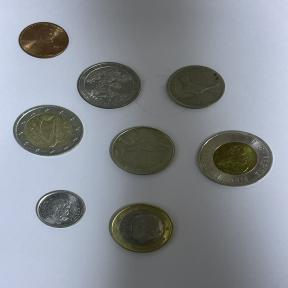coin: (189, 123, 280, 194), (99, 195, 183, 257), (100, 118, 182, 180), (6, 104, 86, 162), (74, 58, 148, 112), (9, 15, 78, 67), (30, 186, 91, 234)
